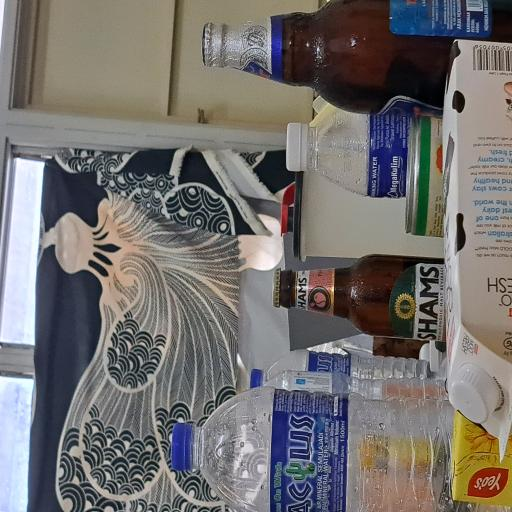glass bottle: (300, 267, 383, 512), (127, 364, 194, 512)
plastic bottle: (0, 251, 94, 512), (236, 408, 303, 512), (92, 350, 122, 512)
plastic bottle cap: (30, 228, 67, 256), (255, 382, 292, 408), (92, 332, 108, 350)
